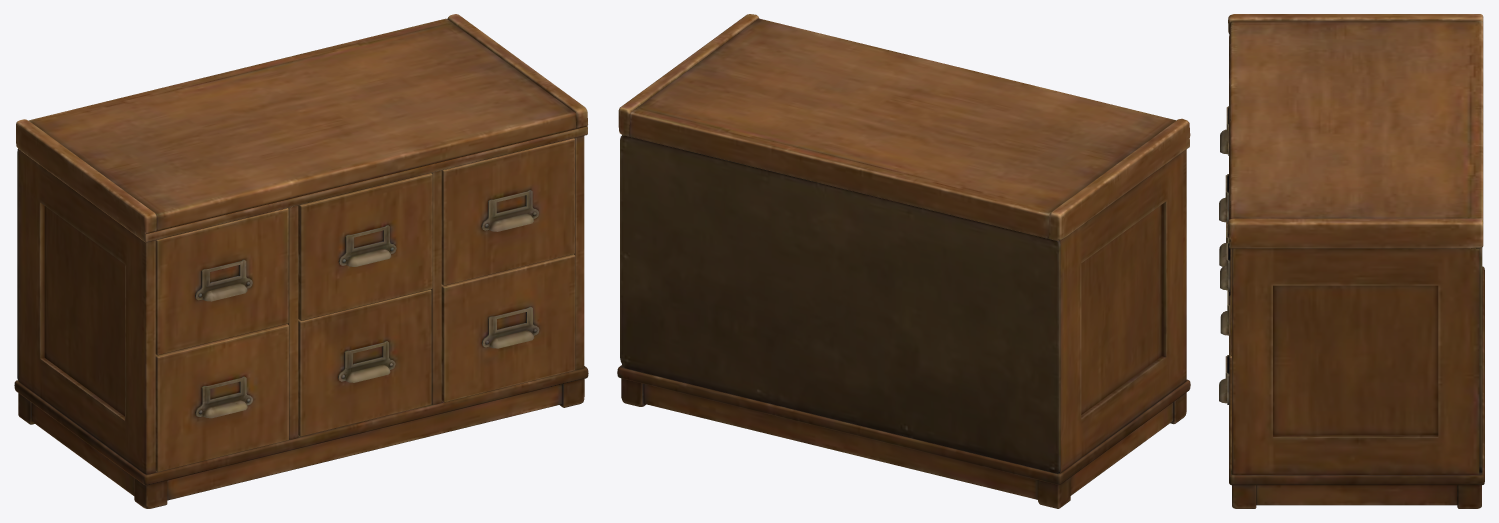
File: vintage_wooden_drawer_01.glb
3 renders of one model, left to right at view 1: azimuth 30°, elevation 25°; view 2: azimuth 150°, elevation 25°; view 3: azimuth 270°, elevation 25°, orthographic. The views are drawn at different scales.
Visible parts, largest first — view 1: vintage_wooden_drawer_01_body, vintage_wooden_drawer_01_drawer06, vintage_wooden_drawer_01_drawer02, vintage_wooden_drawer_01_drawer04, vintage_wooden_drawer_01_drawer03, vintage_wooden_drawer_01_drawer01, vintage_wooden_drawer_01_drawer05; view 2: vintage_wooden_drawer_01_body; view 3: vintage_wooden_drawer_01_body, vintage_wooden_drawer_01_drawer06, vintage_wooden_drawer_01_drawer03, vintage_wooden_drawer_01_drawer02.
Boxes of the visible parts, x1=… form: vintage_wooden_drawer_01_body: x1=14, y1=14, x2=588, y2=508; vintage_wooden_drawer_01_drawer06: x1=441, y1=254, x2=575, y2=402; vintage_wooden_drawer_01_drawer02: x1=298, y1=173, x2=432, y2=320; vintage_wooden_drawer_01_drawer04: x1=155, y1=324, x2=288, y2=472; vintage_wooden_drawer_01_drawer03: x1=441, y1=138, x2=574, y2=285; vintage_wooden_drawer_01_drawer01: x1=155, y1=208, x2=288, y2=355; vintage_wooden_drawer_01_drawer05: x1=298, y1=289, x2=431, y2=436; vintage_wooden_drawer_01_body: x1=617, y1=14, x2=1190, y2=508; vintage_wooden_drawer_01_body: x1=1228, y1=14, x2=1484, y2=508; vintage_wooden_drawer_01_drawer06: x1=1219, y1=295, x2=1231, y2=469; vintage_wooden_drawer_01_drawer03: x1=1220, y1=242, x2=1231, y2=355; vintage_wooden_drawer_01_drawer02: x1=1219, y1=174, x2=1228, y2=223.
Bounding box in the file's own units: 0.8576 × 0.5454 × 0.4574.
1 material, 1 textured.
